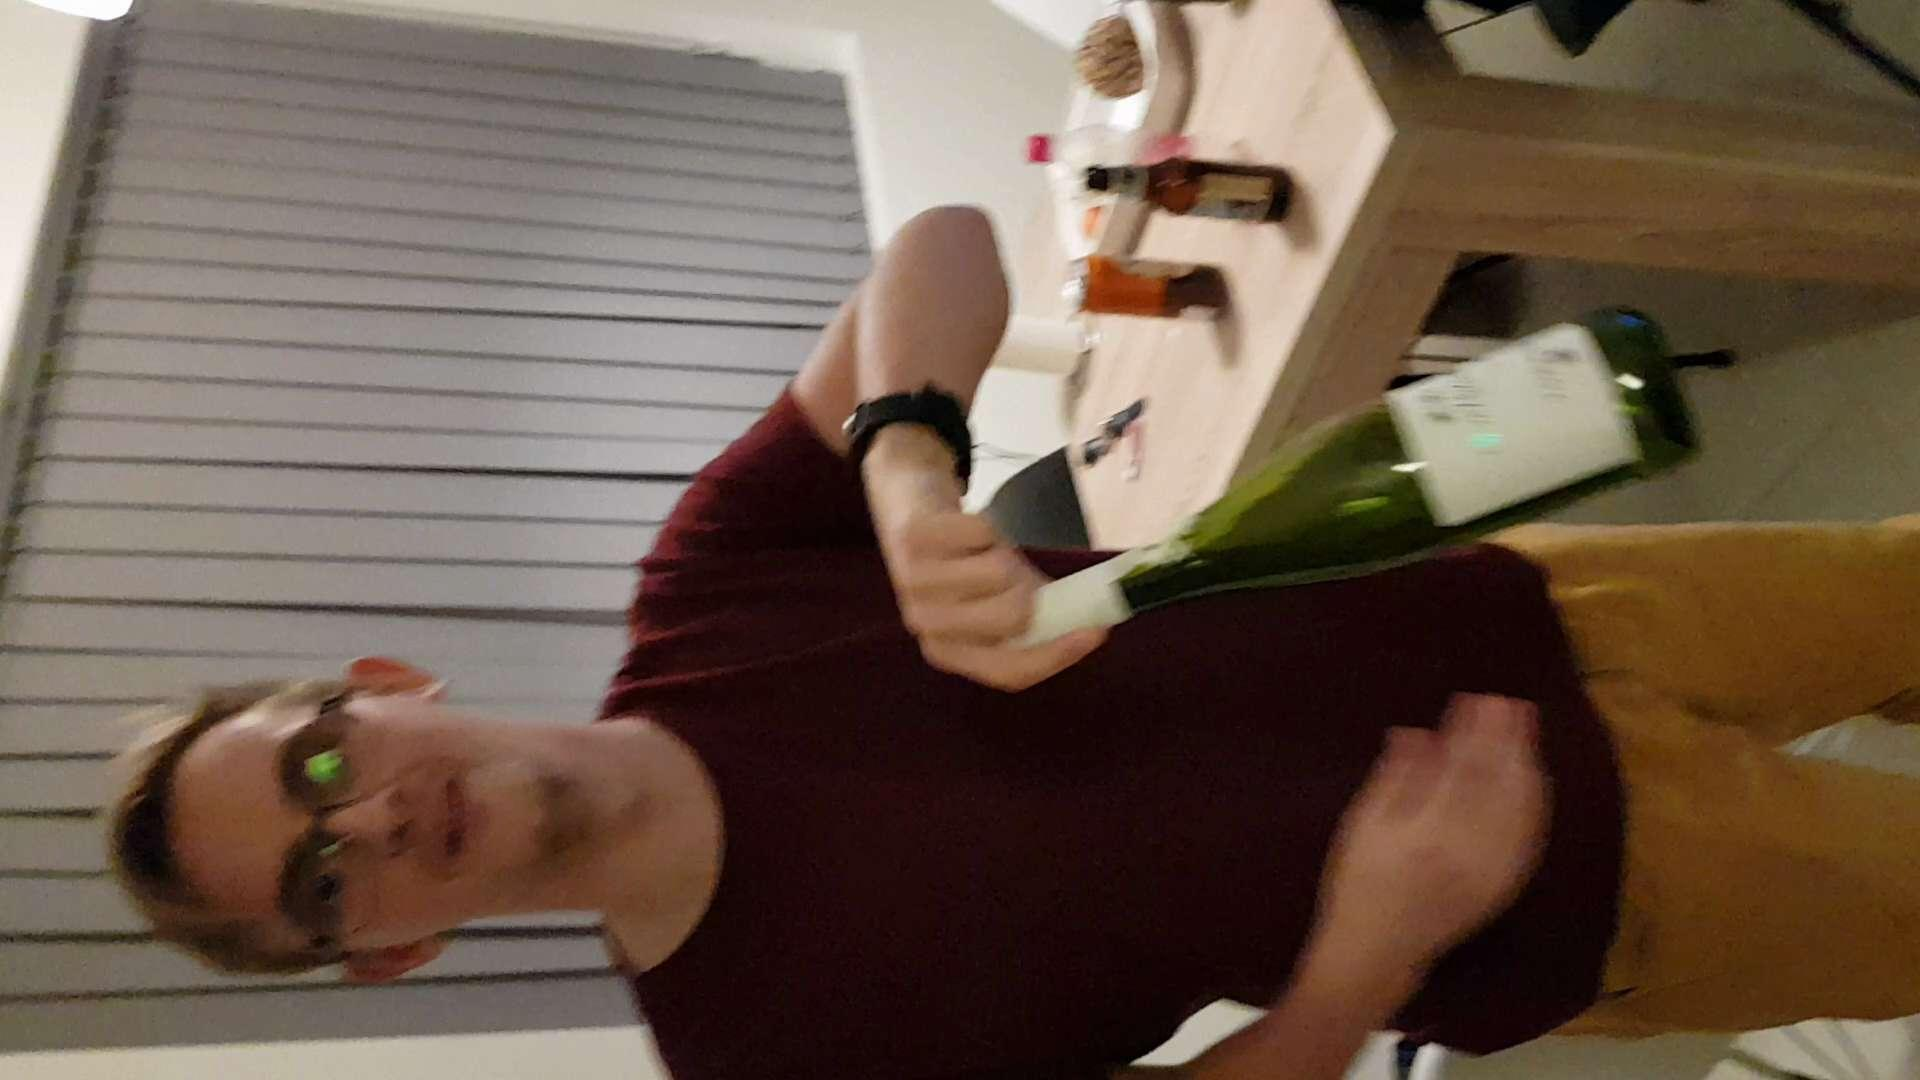Bottle: (1025, 299, 1702, 646)
